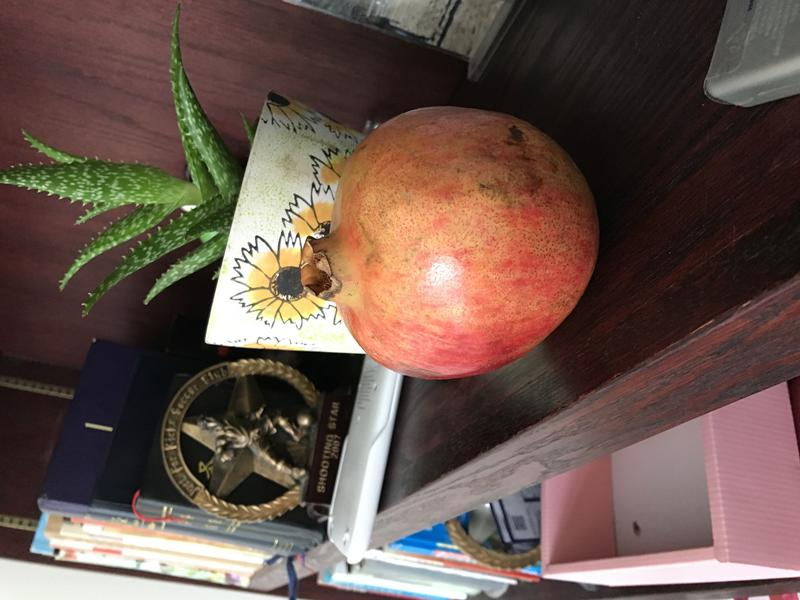pomegranate: (286, 102, 611, 392)
